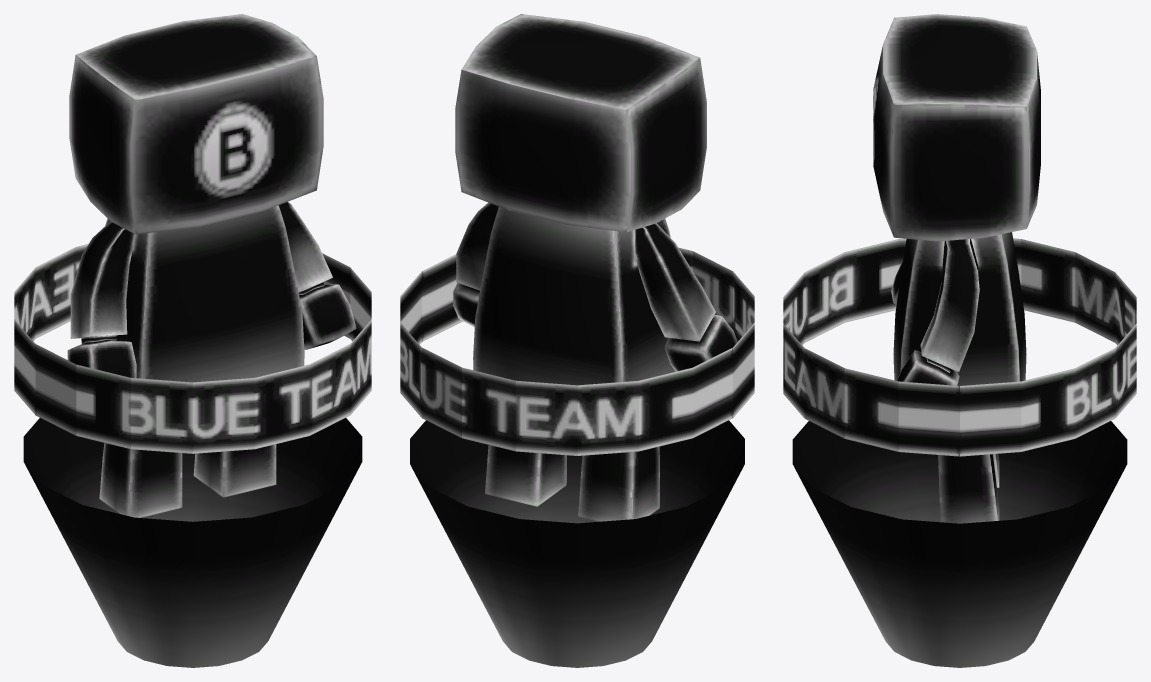
File: spwaner_team_b.obj
The picture shows the model from 3 angles, left to right: view 1: azimuth 30°, elevation 25°; view 2: azimuth 150°, elevation 25°; view 3: azimuth 270°, elevation 25°; orthographic projection.
Visible parts, largest first — view 1: Spwaner_body, Spwaner_ring; view 2: Spwaner_body, Spwaner_ring; view 3: Spwaner_body, Spwaner_ring.
Part boxes in pixels (box(x1,y1,x2,y2)): Spwaner_body: box(23, 14, 362, 667); Spwaner_ring: box(14, 244, 371, 453); Spwaner_body: box(410, 14, 744, 667); Spwaner_ring: box(400, 247, 754, 455); Spwaner_body: box(792, 14, 1127, 667); Spwaner_ring: box(783, 238, 1136, 456).
Size of the model in its own units: 0.978 by 1.74 by 0.9632.
1 material, 1 textured.
